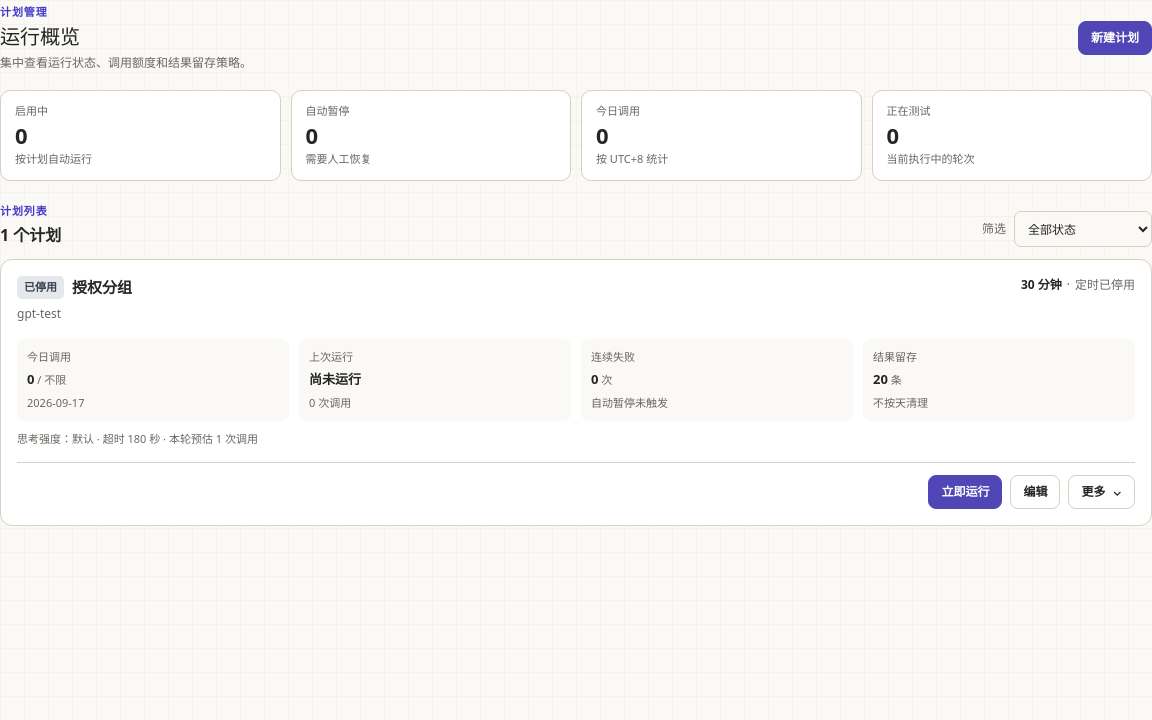
Test: PelicanPlansPanel › shows a retryable model-load error and blocks submission
Click the button "新建计划".
click(1115, 38)  # box [1078,21,1151,55]
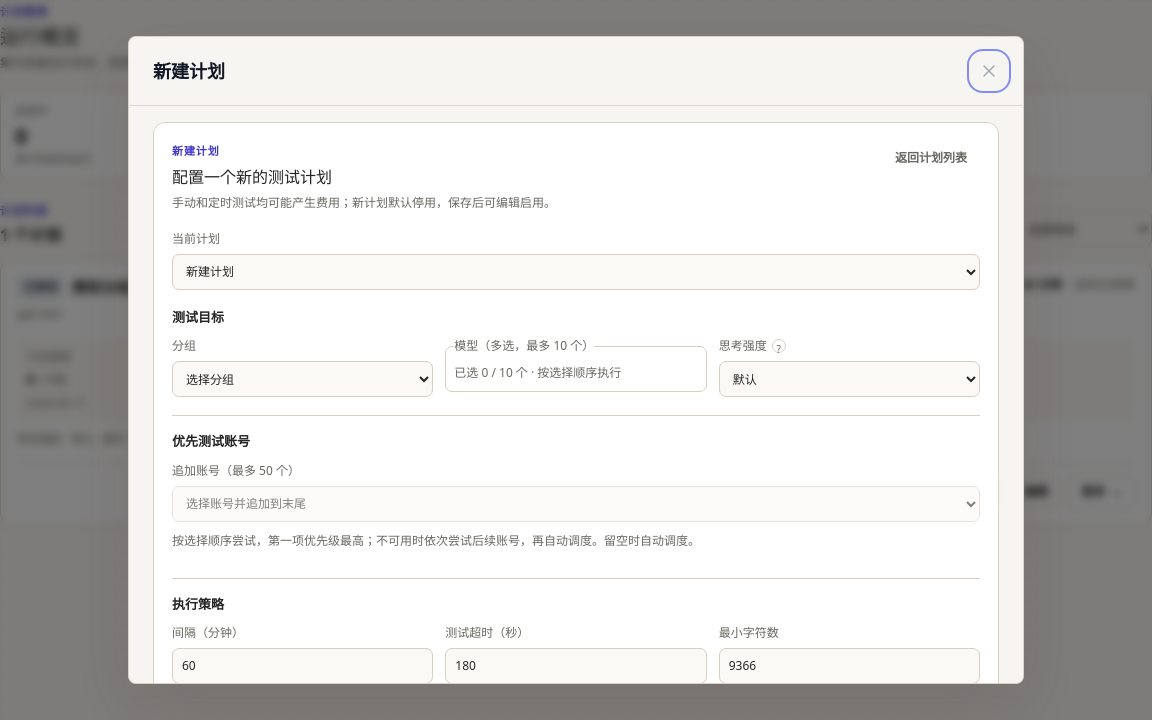
Select "授权分组" in the dropdown named "分组" at (303,379), box [172,361,433,397]
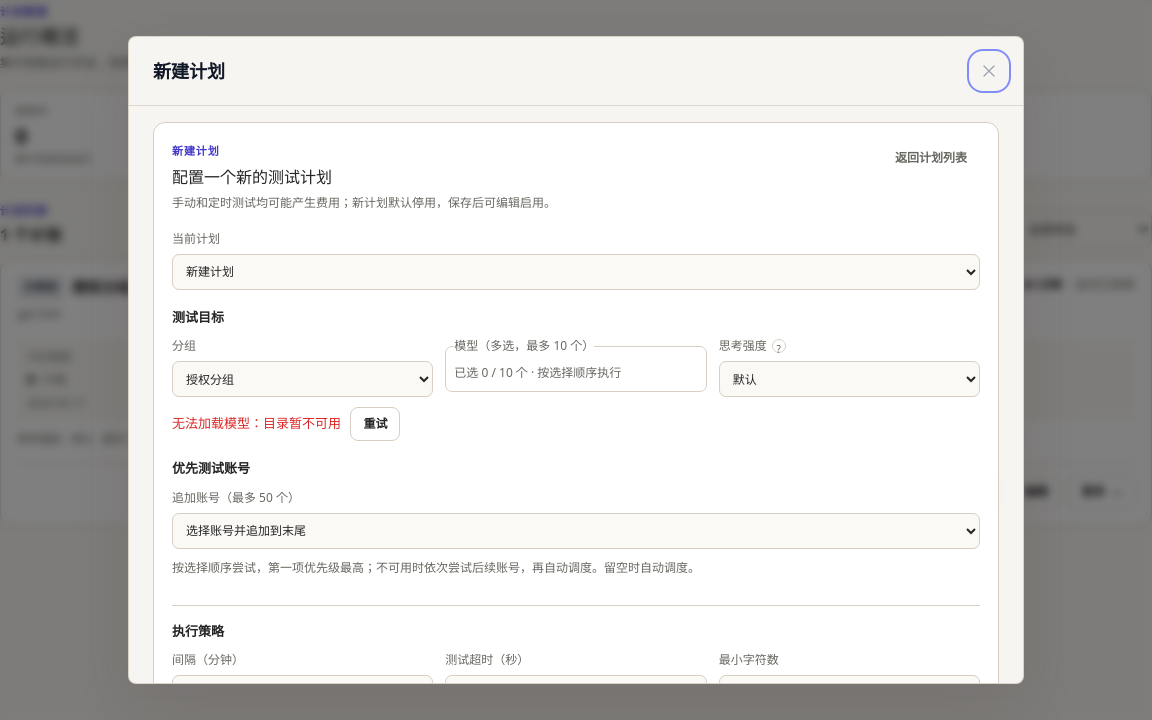
Expected: the text "无法加载模型：目录暂不可用" is shown, [172,414,344,432]
Click the button "重试".
click(375, 424)  # box [350,407,400,441]
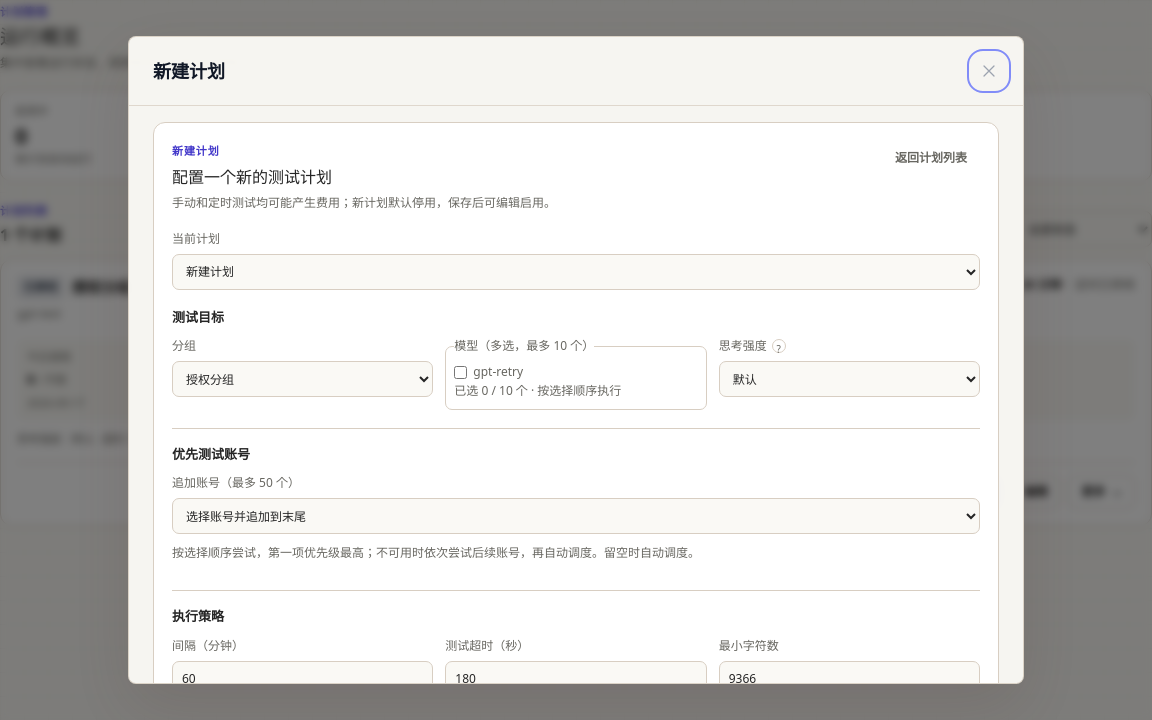
Expected: the text "gpt-retry" is shown, [454,363,523,380]
